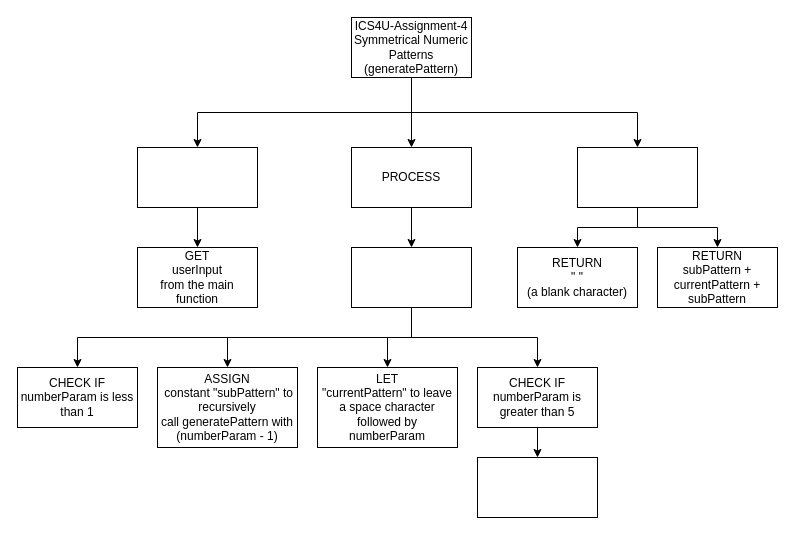
This 795x535 diagram has some shape labels left out. Here are the shapes that lost their labels. From the top down, the centre of each, then its label:
(x=197, y=177): INPUT
(x=637, y=177): OUTPUT
(x=411, y=277): Note: userInput is associated to numberParam
(x=537, y=487): ADD a new line "\n" to currentPattern
